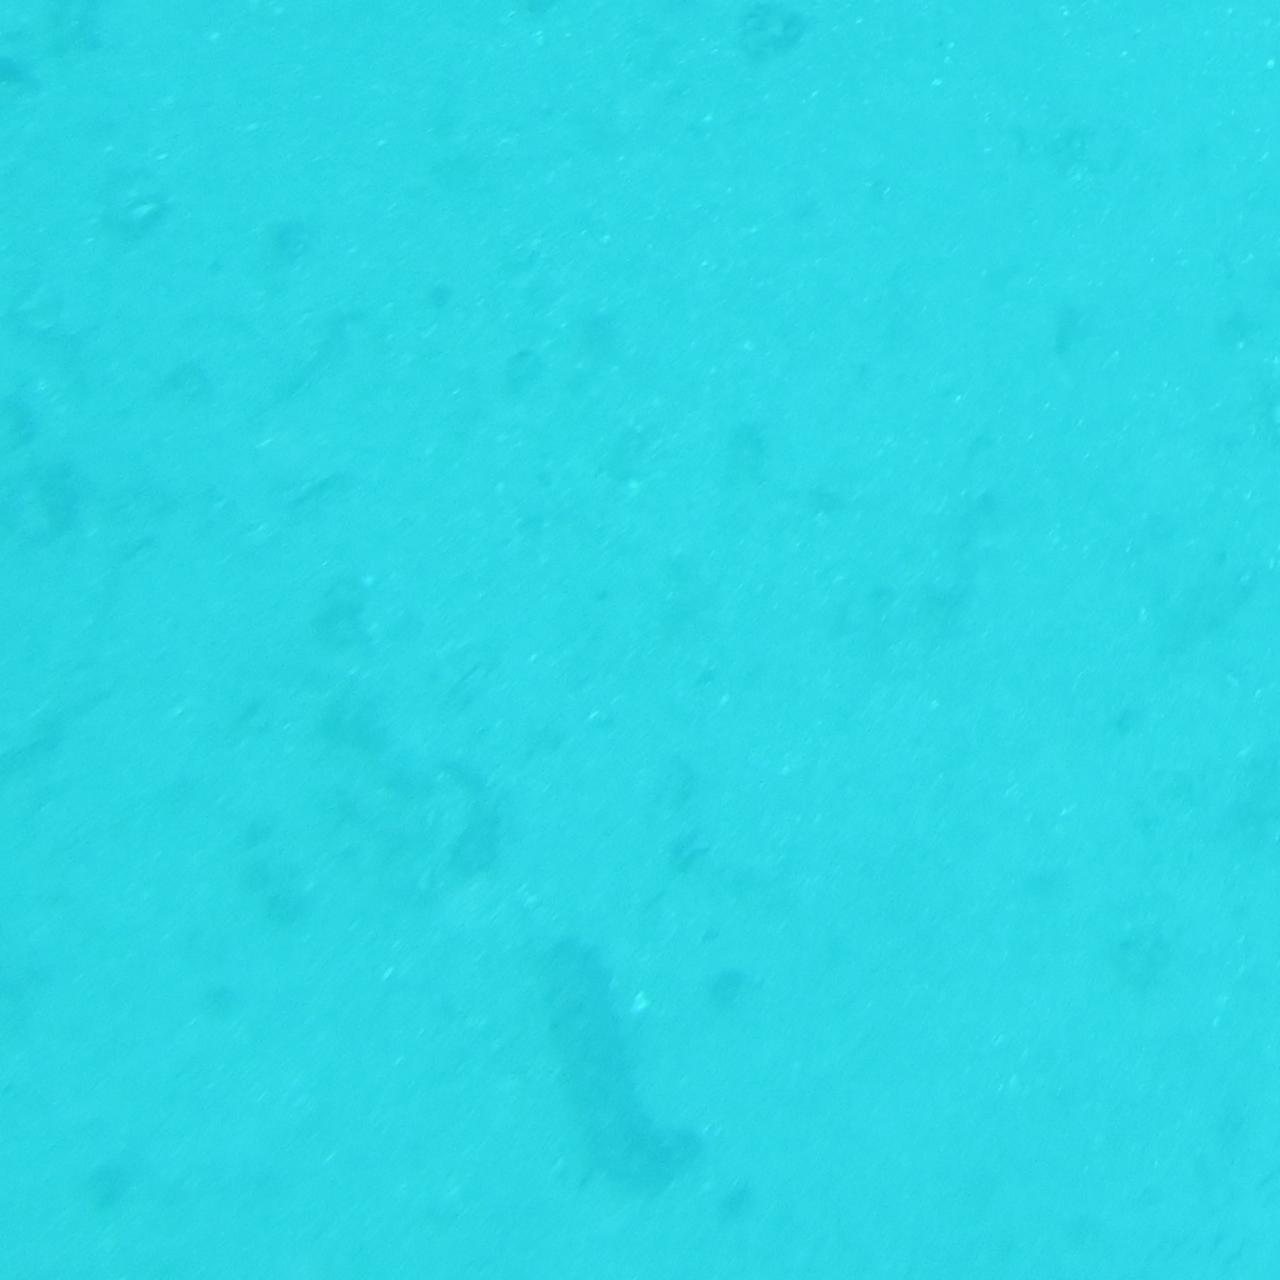Holothuria tubulosa: (522, 949, 758, 1206)
